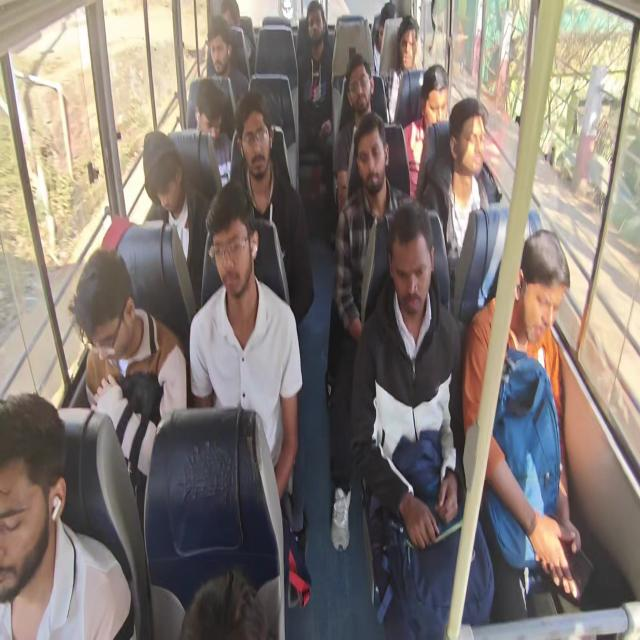person: (65, 3, 582, 636), (350, 199, 495, 638), (462, 228, 581, 620), (325, 112, 413, 552), (189, 180, 303, 506), (68, 247, 188, 537), (0, 391, 135, 639), (229, 90, 315, 327), (416, 96, 490, 296), (142, 130, 211, 312), (333, 53, 385, 213), (297, 1, 334, 220), (187, 15, 249, 141), (179, 567, 270, 639), (402, 64, 450, 198), (382, 15, 423, 123), (194, 78, 232, 187), (219, 0, 255, 76), (371, 1, 396, 76)
